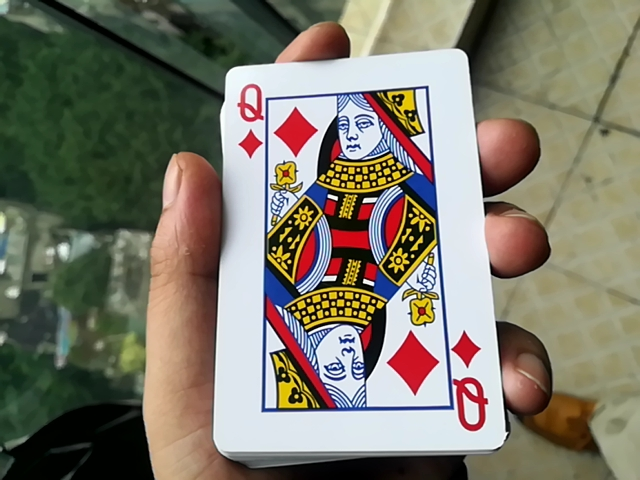fk q: (195, 53, 513, 453)
